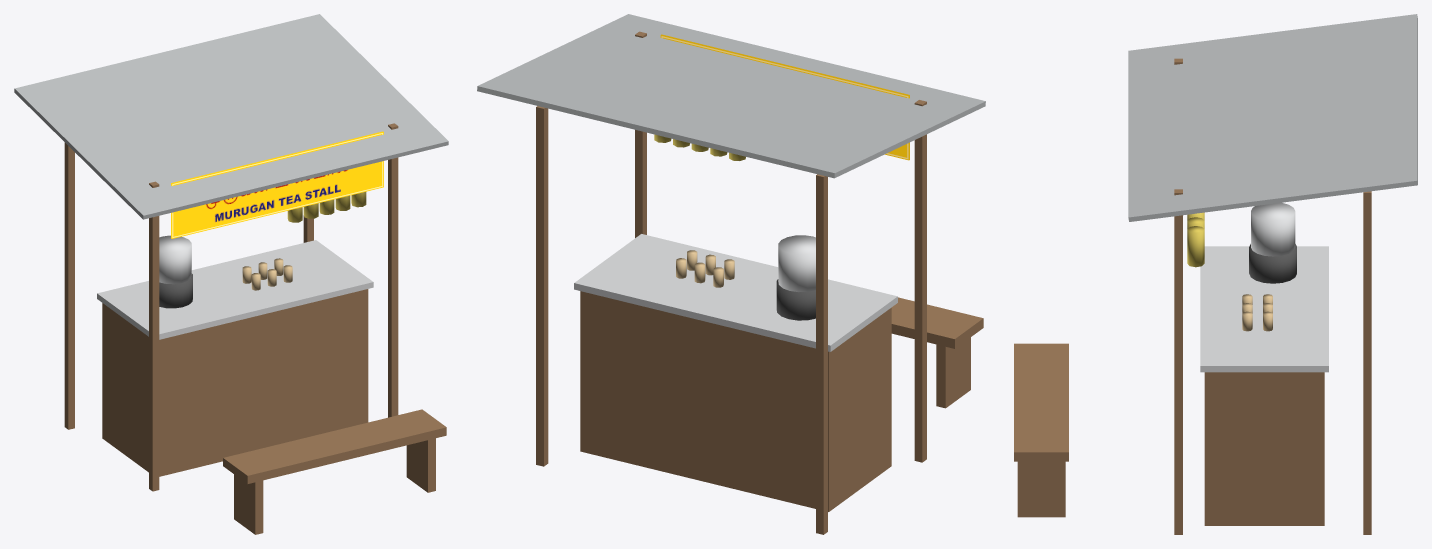
File: life_stall0.glb
3 renders of one model, left to right at view 1: azimuth 30°, elevation 25°; view 2: azimuth 150°, elevation 25°; view 3: azimuth 270°, elevation 25°, orthographic. The views are drawn at different scales.
Visible parts, largest first — view 1: Counter; view 2: Counter; view 3: Counter.
Boxes of the visible parts, x1=… form: Counter: x1=14, y1=14, x2=448, y2=534; Counter: x1=477, y1=14, x2=985, y2=534; Counter: x1=1014, y1=14, x2=1417, y2=534.
Bounding box in the file's own units: 2.3 × 2.38 × 2.35.
Materials: 7 (1 with a texture image).
